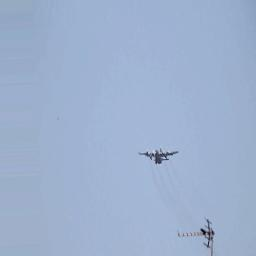Airplane: (138, 148, 181, 164)
